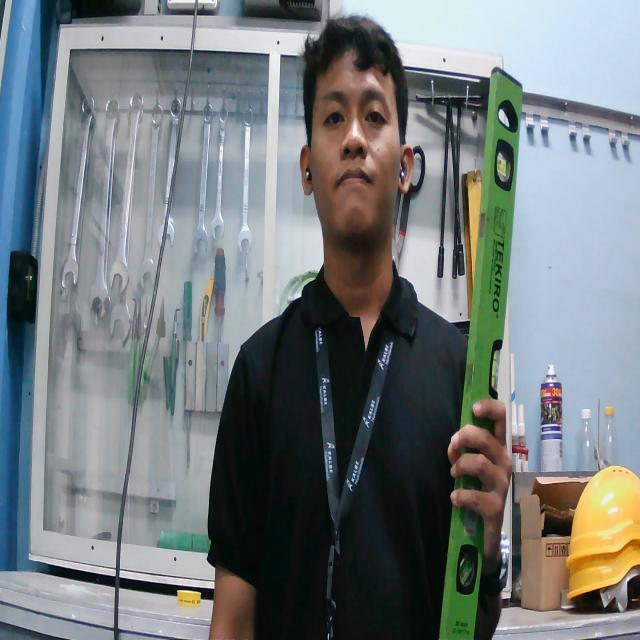water_pass: (436, 57, 526, 640)
